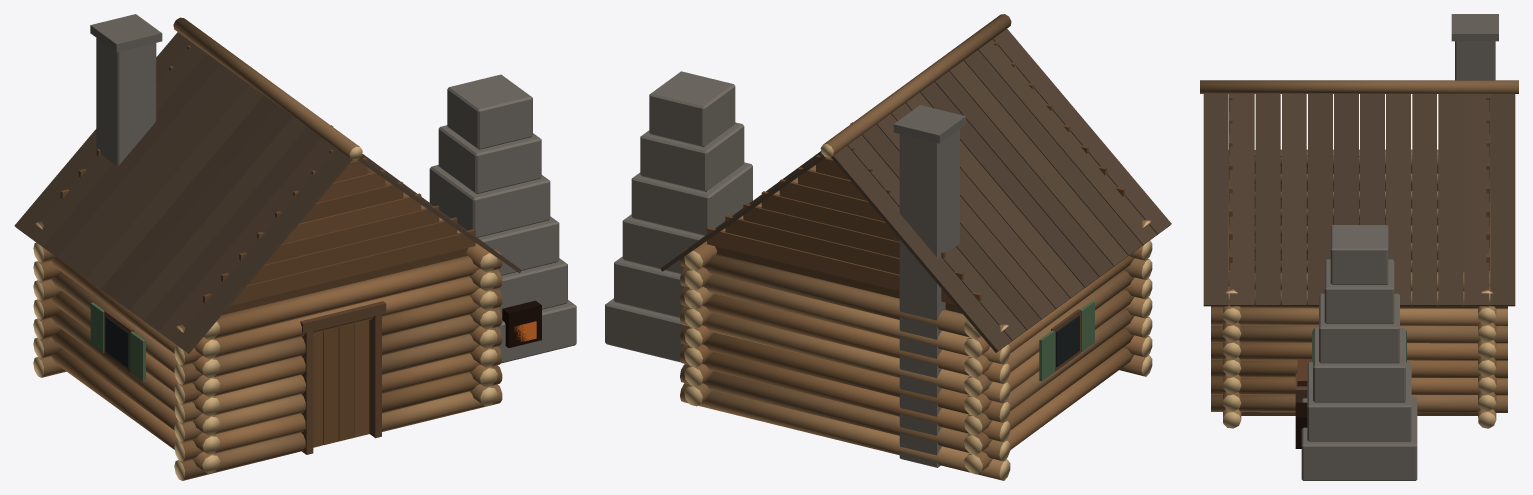
Rendered from smelter_1.glb.
The picture shows the model from 3 angles, left to right: view 1: azimuth 30°, elevation 25°; view 2: azimuth 150°, elevation 25°; view 3: azimuth 270°, elevation 25°; orthographic projection. The views are drawn at different scales.
Parts seen in each view (by area): view 1: smelter1_log, smelter1_roof, smelter1_stone, smelter1_wood, smelter1_soot, smelter1_glass; view 2: smelter1_log, smelter1_roof, smelter1_stone, smelter1_wood, smelter1_glass; view 3: smelter1_roof, smelter1_log, smelter1_stone, smelter1_wood, smelter1_soot.
Boxes of the visible parts, x1,y1,x2,y2 form: smelter1_log: (33, 17, 502, 480); smelter1_roof: (14, 32, 521, 353); smelter1_stone: (90, 14, 576, 363); smelter1_wood: (60, 45, 475, 454); smelter1_soot: (502, 300, 541, 347); smelter1_glass: (105, 317, 536, 368); smelter1_log: (679, 14, 1152, 480); smelter1_roof: (660, 29, 1171, 352); smelter1_stone: (605, 71, 965, 467); smelter1_wood: (707, 42, 1124, 381); smelter1_glass: (1056, 315, 1079, 367); smelter1_roof: (1203, 93, 1515, 306); smelter1_log: (1200, 80, 1518, 428); smelter1_stone: (1301, 14, 1498, 480); smelter1_wood: (1229, 94, 1489, 415); smelter1_soot: (1295, 402, 1307, 448).
Size of the model in its own units: 8.02 by 5.73 by 5.5.
